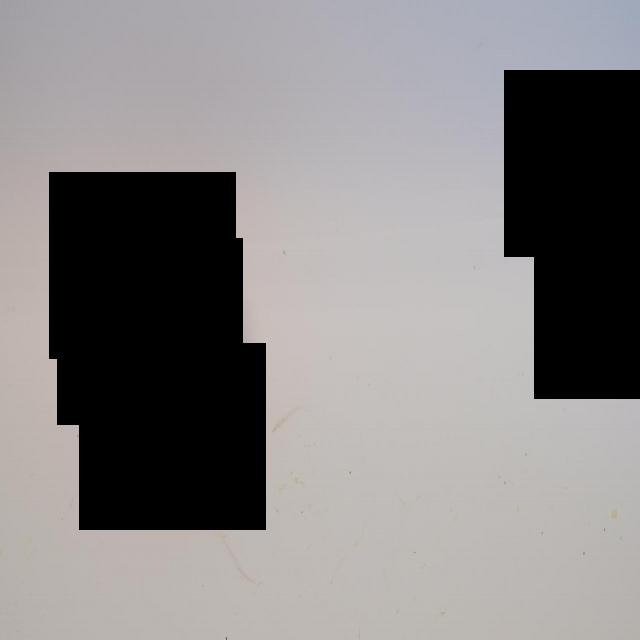apple: (124, 228, 236, 414)
